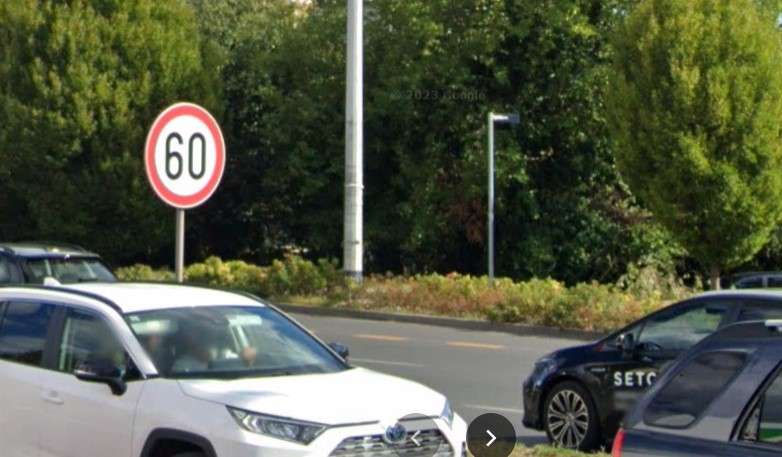Ograničenje brzine 60: (144, 102, 226, 209)
